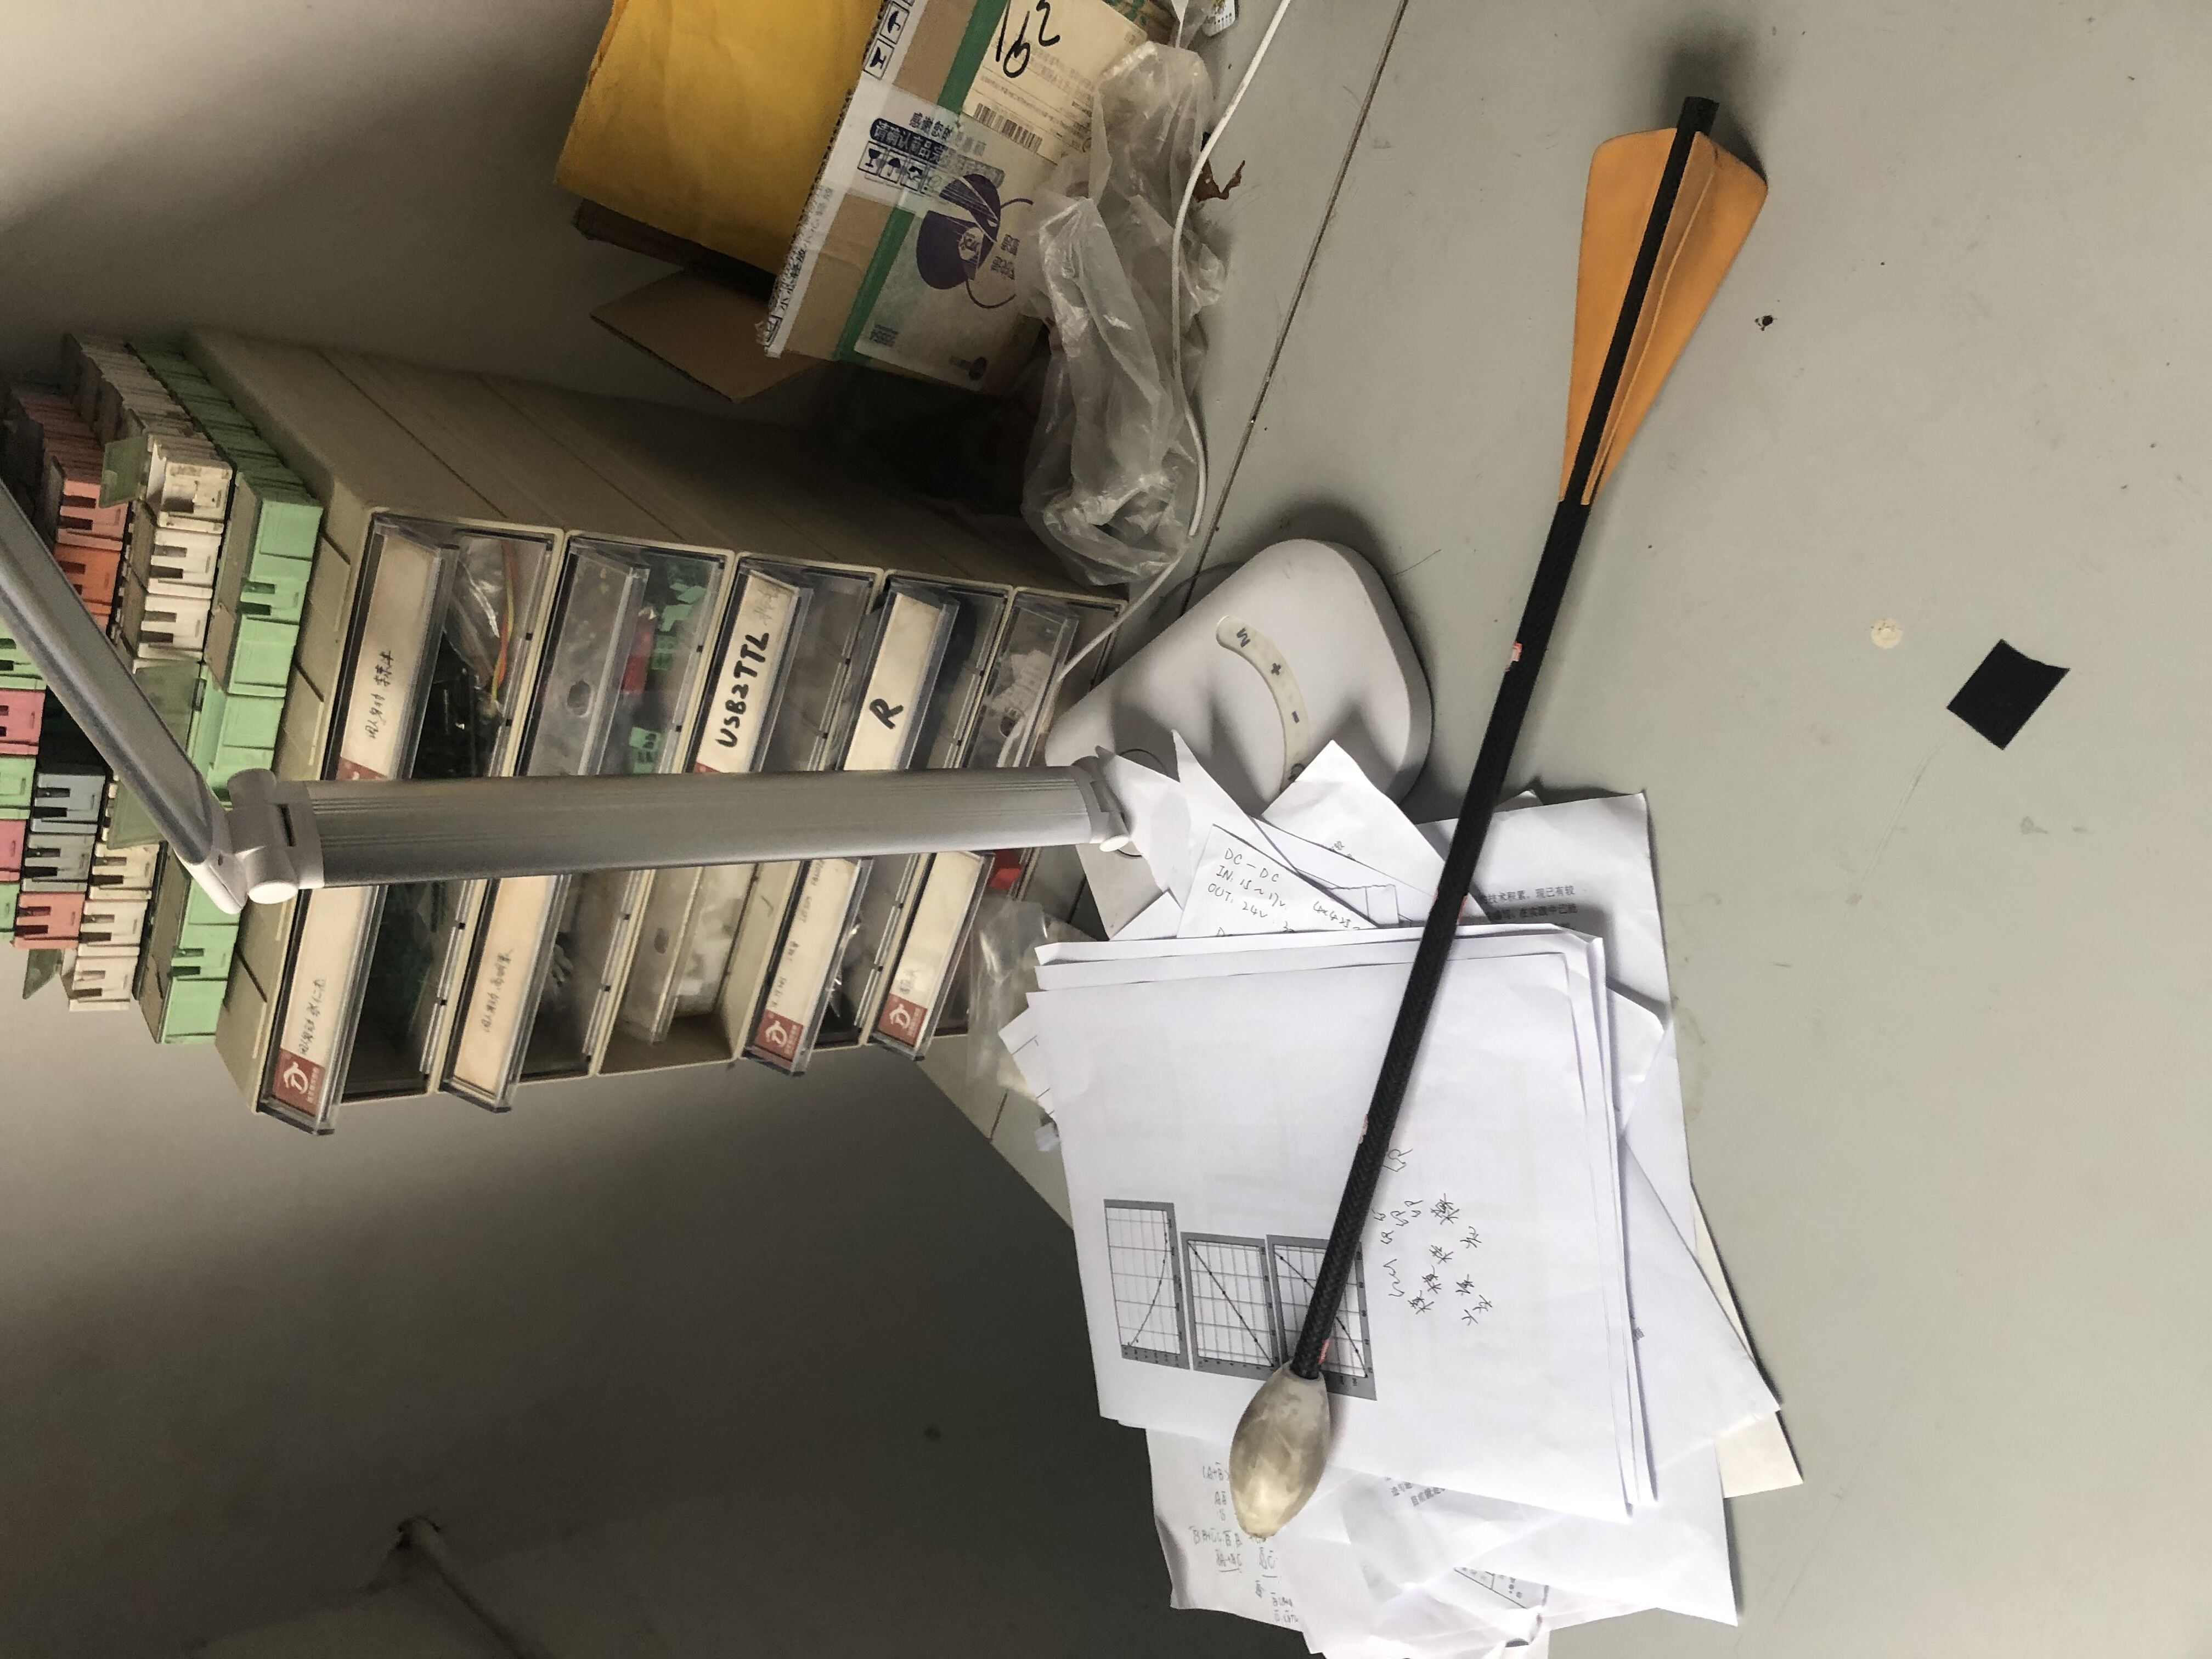arrow: (1228, 94, 1770, 1535)
arrowFront: (1231, 1363, 1332, 1539)
